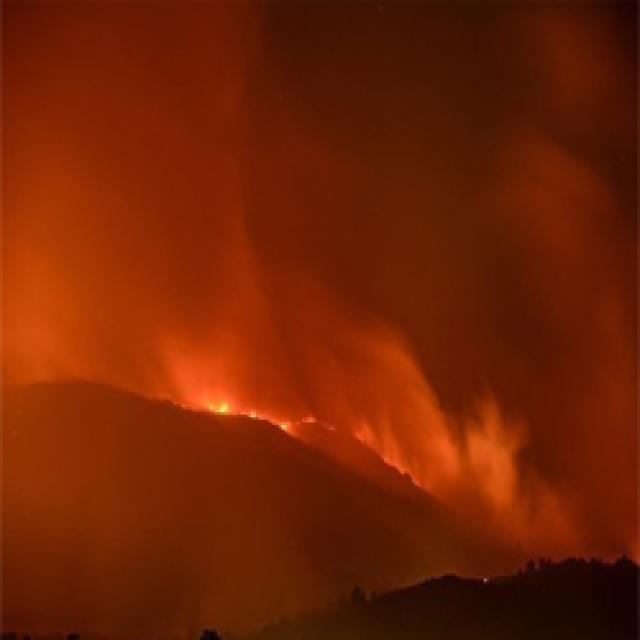Fire: (165, 370, 312, 453)
Smoke: (0, 0, 393, 387), (502, 0, 640, 578), (371, 287, 609, 478)
